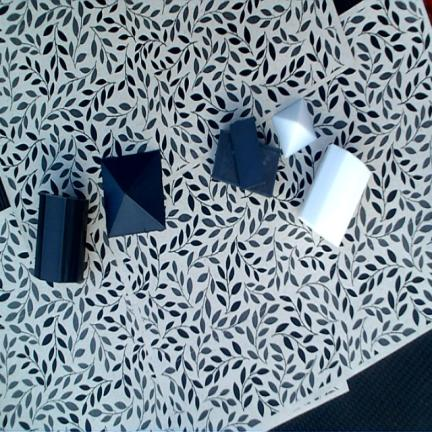Paralelepipedo: (212, 129, 281, 198), (230, 117, 266, 188)
Piramide: (101, 149, 165, 238), (272, 99, 317, 159)
Prisma_hexagonal: (299, 144, 373, 248), (34, 193, 89, 282)
